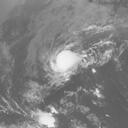cyclone: (54, 50, 80, 73)
